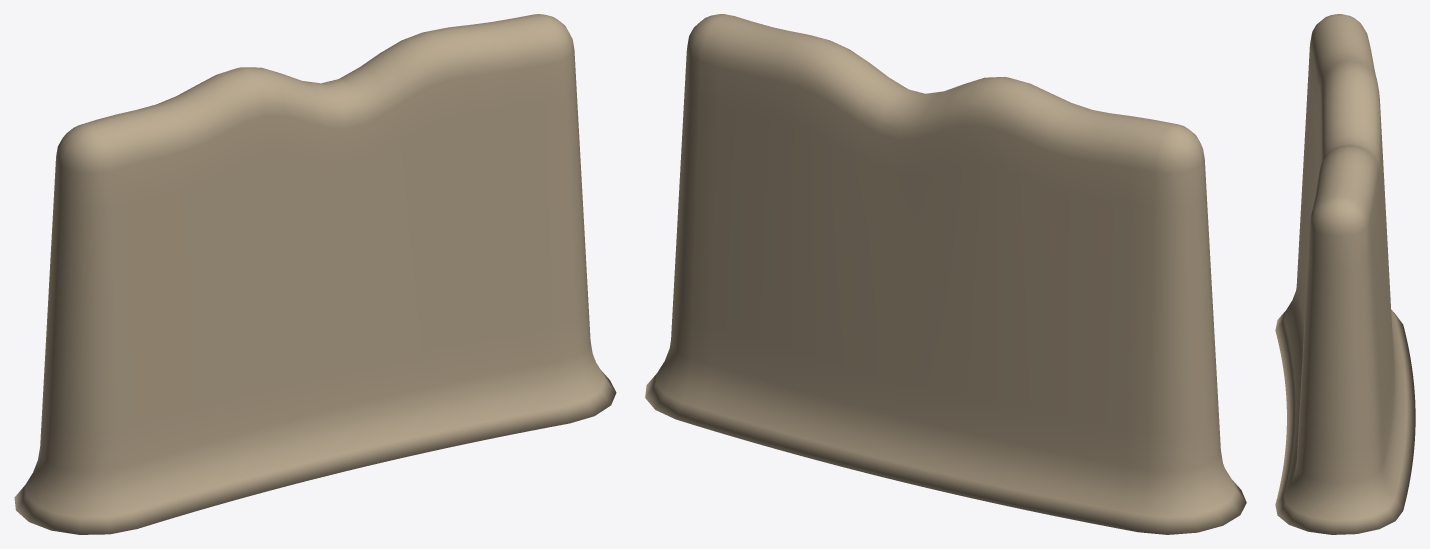
Rendered from KFB_Wall_curved_ring_r5_capAB.r3.glb.
The picture shows the model from 3 angles, left to right: view 1: azimuth 30°, elevation 25°; view 2: azimuth 150°, elevation 25°; view 3: azimuth 270°, elevation 25°; orthographic projection. The views are drawn at different scales.
Visible parts, largest first — view 1: KFB_Wall_curved_ring_r5_capAB; view 2: KFB_Wall_curved_ring_r5_capAB; view 3: KFB_Wall_curved_ring_r5_capAB.
Boxes of the visible parts, x1=… form: KFB_Wall_curved_ring_r5_capAB: x1=14, y1=14, x2=616, y2=534; KFB_Wall_curved_ring_r5_capAB: x1=645, y1=14, x2=1246, y2=534; KFB_Wall_curved_ring_r5_capAB: x1=1275, y1=14, x2=1415, y2=534.
Bounding box in the file's own units: 5.82 × 3.72 × 1.47.
